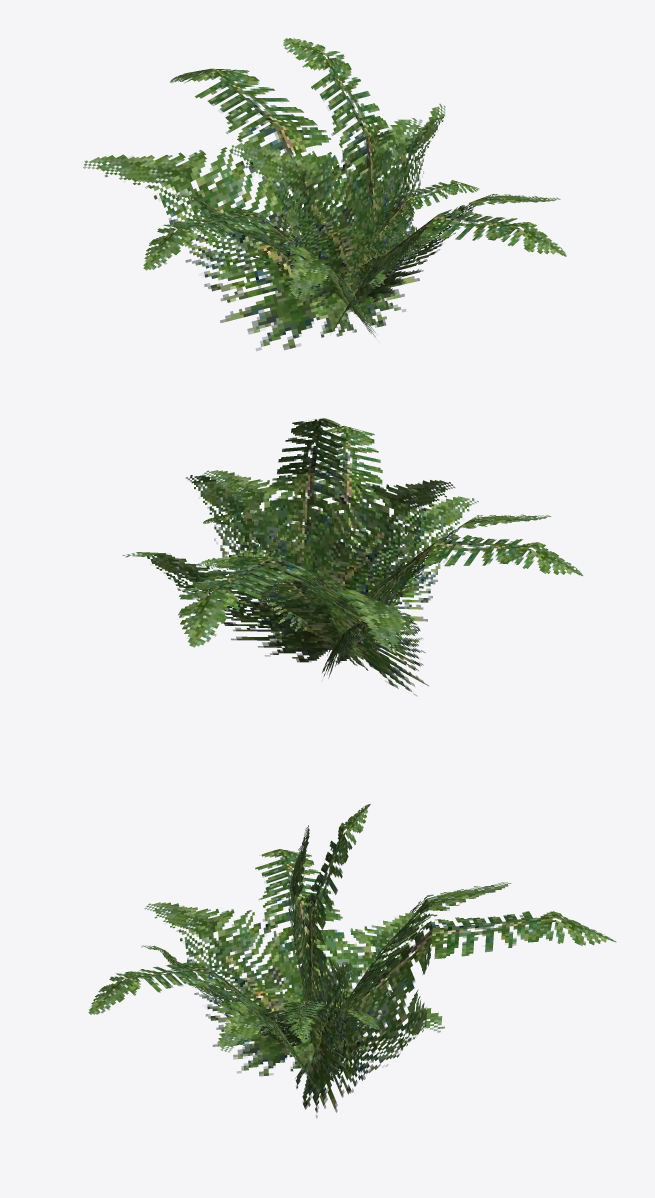
File: Ferns.glb
3 renders of one model, top to bottom at view 1: azimuth 30°, elevation 25°; view 2: azimuth 150°, elevation 25°; view 3: azimuth 270°, elevation 25°, orthographic. The views are drawn at different scales.
Parts seen in each view (by area): view 1: Ferns; view 2: Ferns; view 3: Ferns.
Boxes of the visible parts, x1,y1,x2,y2 form: Ferns: (83,38,566,350); Ferns: (122,418,583,696); Ferns: (88,804,616,1117).
Bounding box in the file's own units: 1.39 × 0.8715 × 1.66.
Materials: 1 (1 with a texture image).
